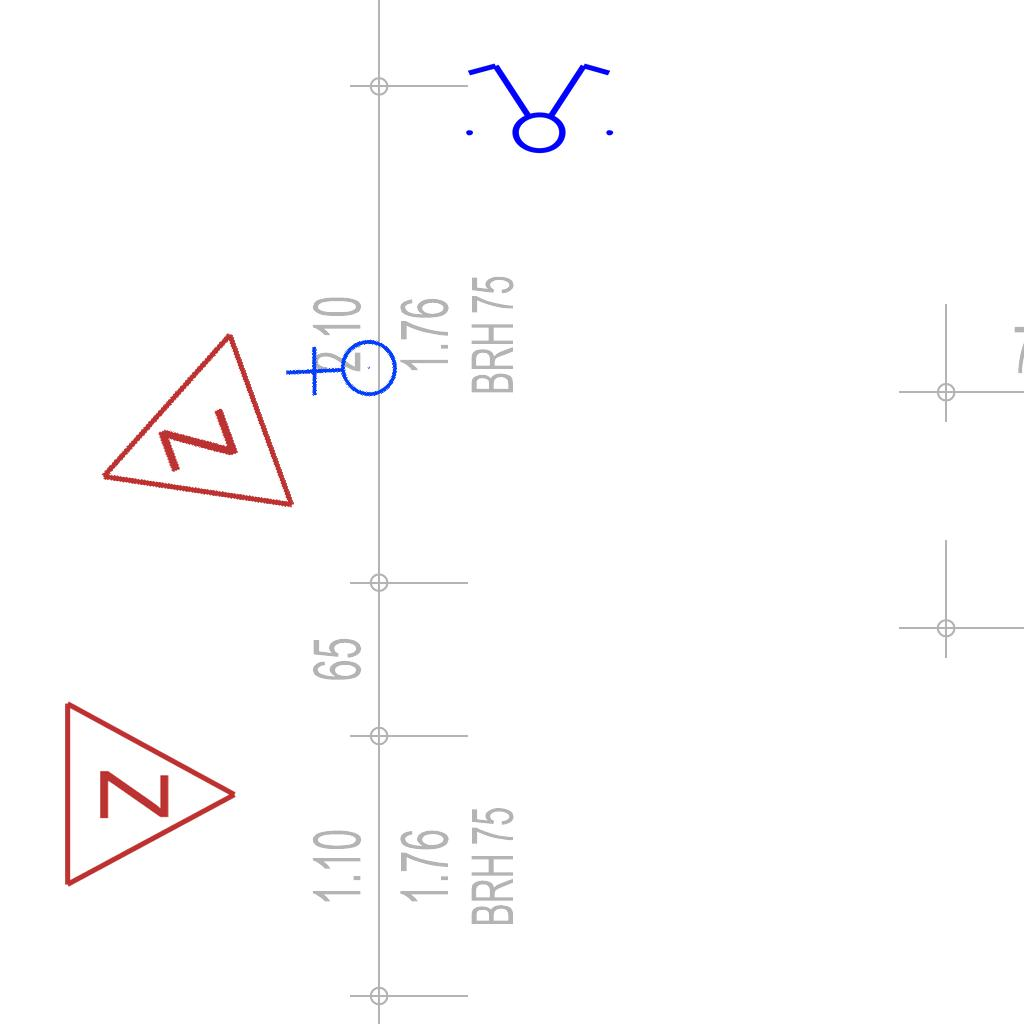Elektroanschluss_allgemein_230V_Geraeteanschlussdose_230V: (280, 305, 417, 441)
Serienschalter: (454, 59, 622, 155)
Zimmersignalleuchte: (56, 323, 312, 577), (50, 694, 250, 890)
